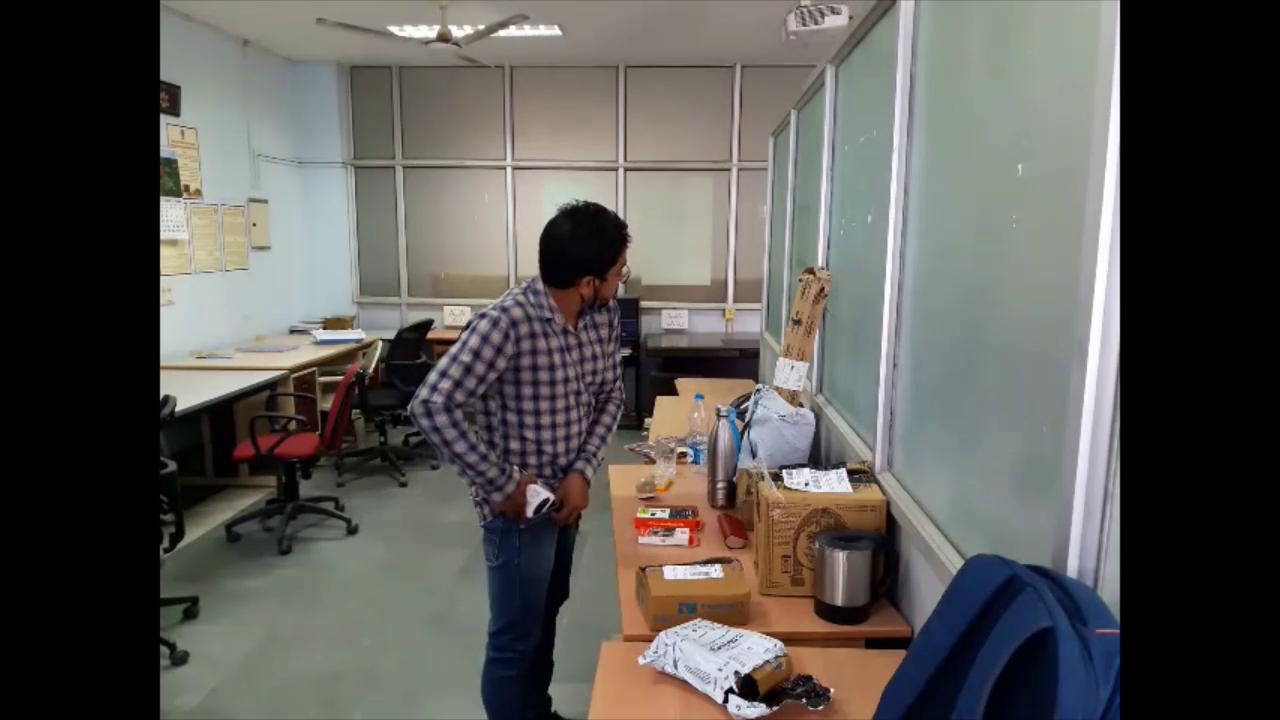shoplifting: (400, 199, 645, 720)
